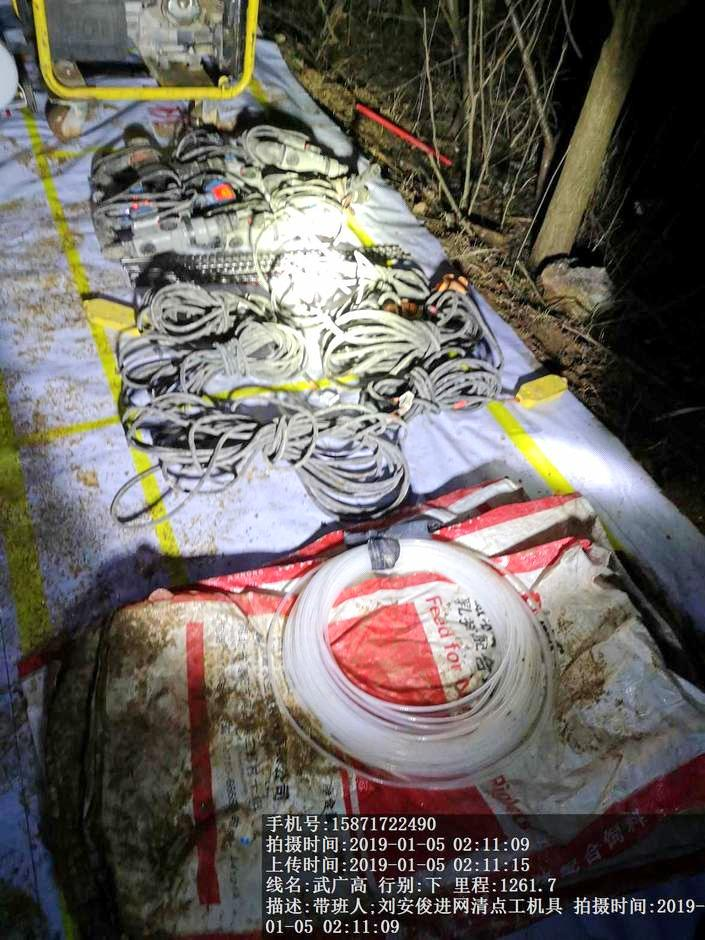SG: (273, 539, 564, 776)
